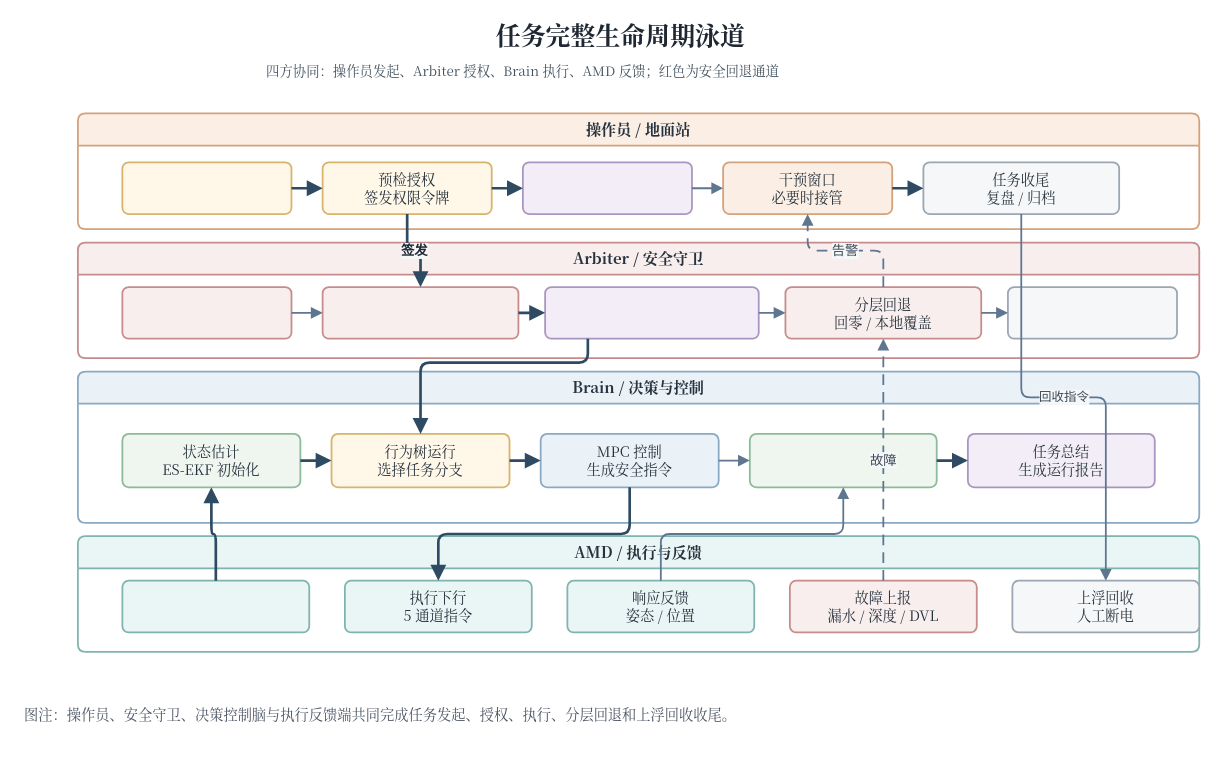
Image size: 1215x760. Some labels were removed from this diagram. The centre of each missing label's shape, as x and y in pixels:
"AutonomyGuard 通信 / 电压 / 置信度" belongs at (420,312).
"任务发起 加载 yaml" belongs at (206,187).
"任务监视 看板 / 视频" belongs at (607,187).
"传感器上行 DVL / IMU / 深度" belongs at (215,606).
"健康自检 置信度输出" belongs at (842,460).
"权限迁移 REMOTE → AUTONOMOUS" belongs at (651,312).
"权限锁定 拒绝越权" belongs at (206,312).
"结束确认 关闭权限" belongs at (1092,312).
